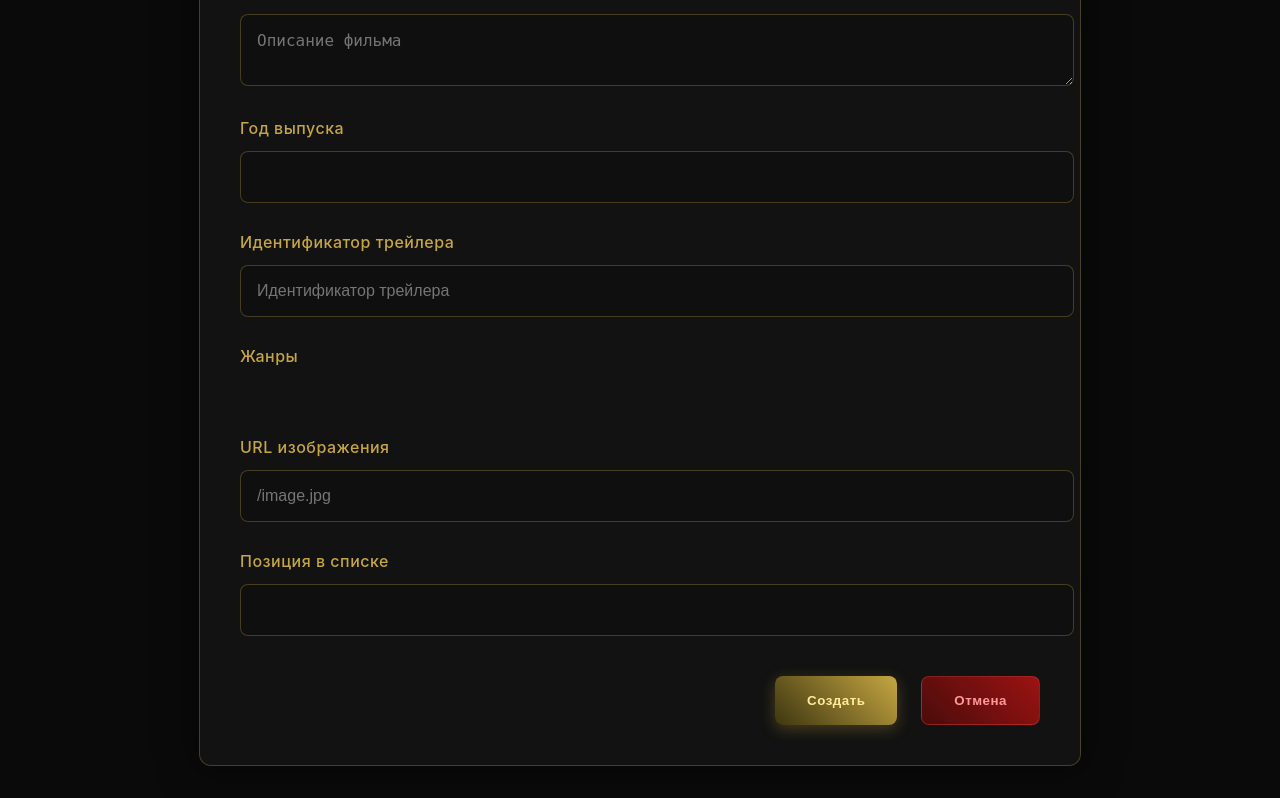
it: MovieForm Component › shows validation errors
(page scrolled)
Click the button "Создать" at coordinates (836, 700), box [775, 676, 897, 725]
(page scrolled)
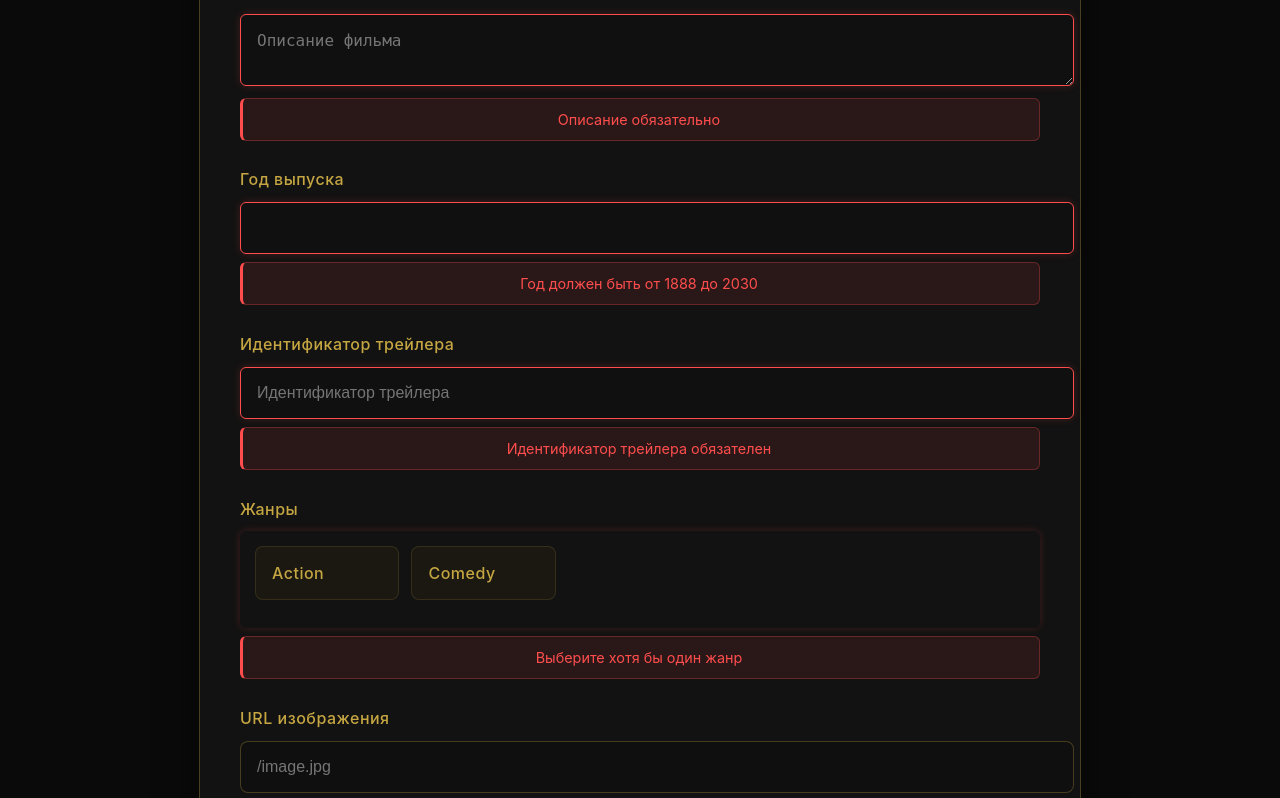
Check: the text "Описание обязательно" is shown, box [240, 98, 1040, 141]
